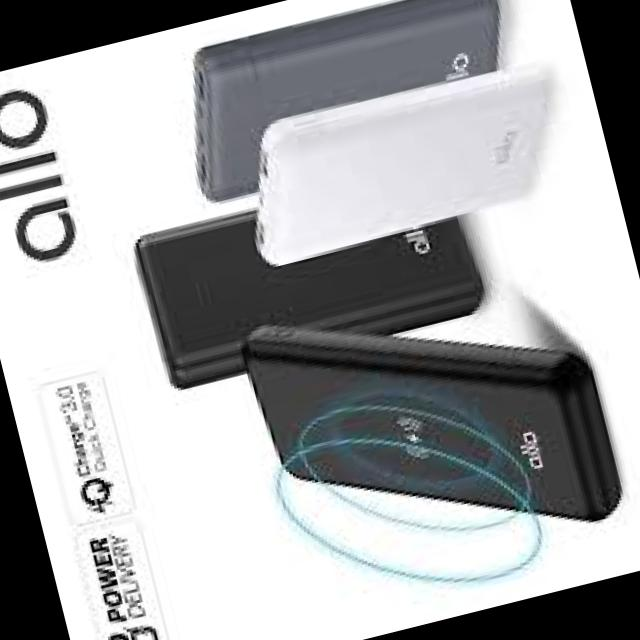portable-charger: (234, 252, 631, 597), (125, 146, 500, 394), (224, 50, 588, 270), (160, 0, 537, 206)
